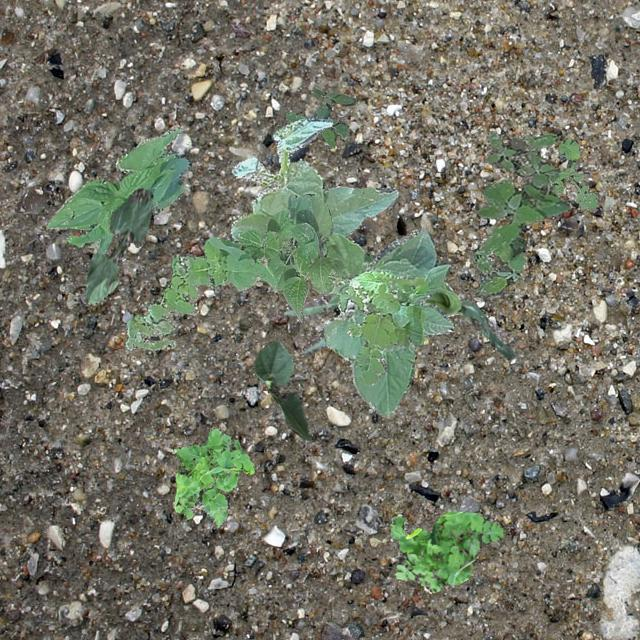crop: (230, 116, 452, 416), (284, 252, 516, 358), (46, 124, 190, 254), (238, 192, 348, 320), (82, 186, 152, 304), (252, 340, 310, 440)
weed: (122, 236, 276, 350), (472, 130, 568, 298), (338, 270, 427, 386), (389, 511, 502, 592), (174, 426, 254, 526), (284, 86, 356, 148), (550, 138, 596, 210)
